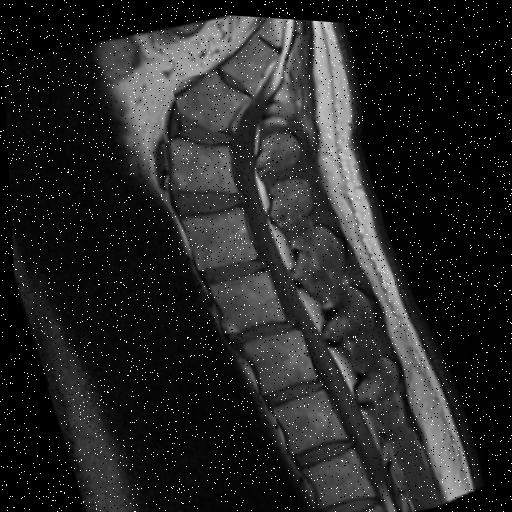L1: (267, 385, 340, 449)
L2: (238, 325, 311, 390)
L3: (205, 267, 280, 328)
L4: (179, 204, 252, 264)
L5: (166, 135, 234, 187)
S1: (173, 66, 246, 127)
